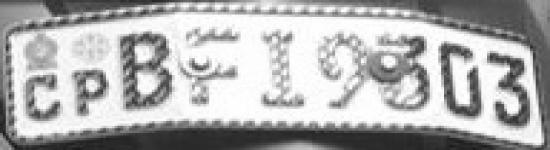0: (435, 33, 483, 125)
3: (375, 30, 435, 119), (484, 50, 532, 128)
9: (315, 26, 373, 114)
B: (116, 30, 179, 114)
C: (16, 72, 66, 124)
F: (183, 23, 243, 110)
I: (257, 27, 313, 114)
P: (70, 66, 109, 118)
